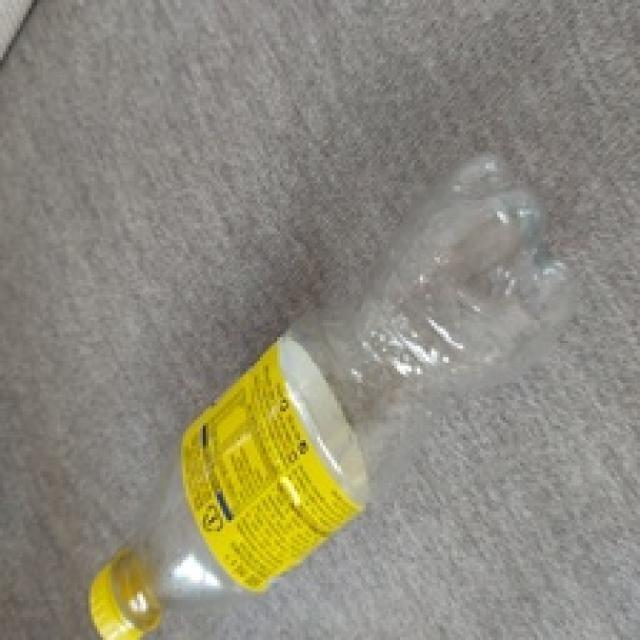Plastic: (92, 152, 582, 640)
